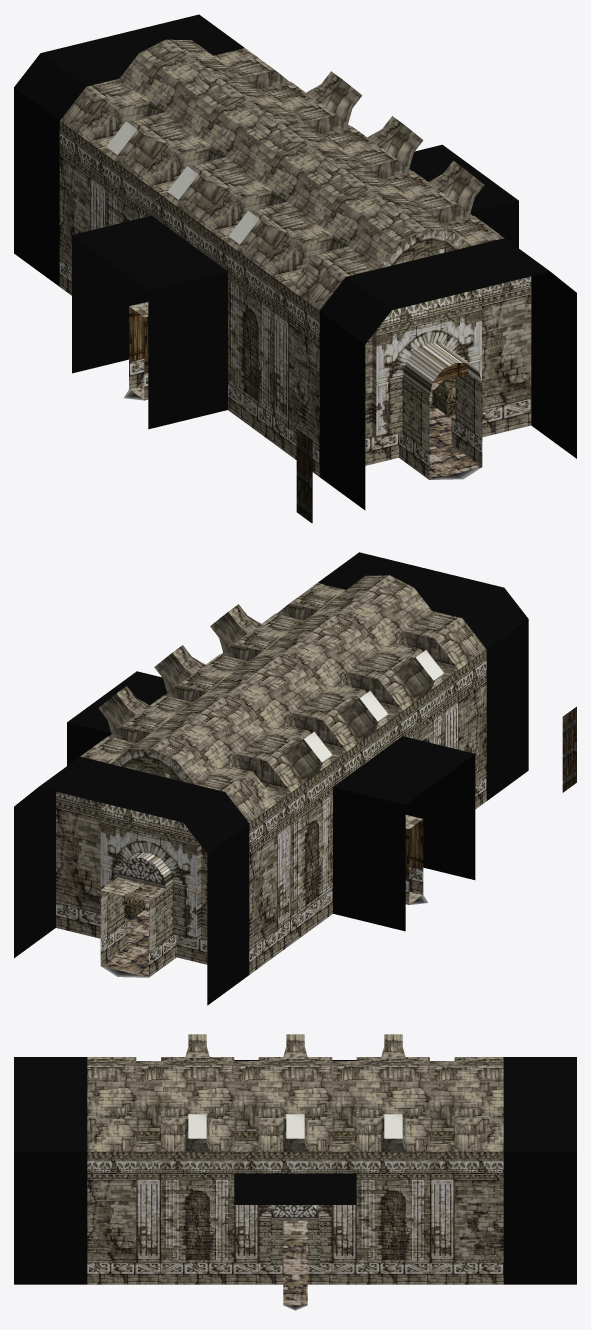
The model's file is MAP048.obj.
3 renders of one model, top to bottom at view 1: azimuth 30°, elevation 25°; view 2: azimuth 150°, elevation 25°; view 3: azimuth 270°, elevation 25°, orthographic. The views are drawn at different scales.
Parts seen in each view (by area): view 1: mesh_32, mesh_38, mesh_39, mesh_36, mesh_25, mesh_20, mesh_54, mesh_49, mesh_19, mesh_26, mesh_21, mesh_48 (+10 smaller); view 2: mesh_32, mesh_36, mesh_39, mesh_38, mesh_25, mesh_54, mesh_9, mesh_8, mesh_49, mesh_26, mesh_10, mesh_48 (+10 smaller); view 3: mesh_32, mesh_14, mesh_36, mesh_38, mesh_43, mesh_15, mesh_44, mesh_37, mesh_54, mesh_17, mesh_7, mesh_55 (+3 smaller).
Part boxes in pixels (left/top/right/bottom): mesh_32: left=60, top=39, right=503, bottom=310; mesh_38: left=319, top=238, right=576, bottom=510; mesh_39: left=72, top=215, right=227, bottom=429; mesh_36: left=14, top=14, right=244, bottom=286; mesh_25: left=59, top=121, right=319, bottom=476; mesh_20: left=376, top=303, right=482, bottom=438; mesh_54: left=108, top=71, right=484, bottom=265; mesh_49: left=59, top=149, right=319, bottom=449; mesh_19: left=365, top=287, right=531, bottom=438; mesh_26: left=90, top=171, right=288, bottom=371; mesh_21: left=365, top=276, right=531, bottom=465; mesh_48: left=90, top=226, right=288, bottom=426; mesh_32: left=80, top=575, right=486, bottom=822; mesh_36: left=14, top=756, right=249, bottom=1005; mesh_39: left=333, top=736, right=475, bottom=931; mesh_38: left=318, top=552, right=528, bottom=800; mesh_25: left=249, top=650, right=486, bottom=974; mesh_54: left=98, top=604, right=442, bottom=781; mesh_9: left=100, top=816, right=197, bottom=940; mesh_8: left=56, top=801, right=207, bottom=940; mesh_49: left=249, top=675, right=486, bottom=949; mesh_26: left=277, top=695, right=458, bottom=878; mesh_10: left=56, top=791, right=207, bottom=964; mesh_48: left=277, top=746, right=458, bottom=928; mesh_32: left=87, top=1057, right=503, bottom=1151; mesh_14: left=87, top=1151, right=503, bottom=1284; mesh_36: left=503, top=1057, right=576, bottom=1284; mesh_38: left=14, top=1057, right=87, bottom=1284; mesh_43: left=136, top=1218, right=454, bottom=1262; mesh_15: left=136, top=1174, right=454, bottom=1239; mesh_44: left=87, top=1174, right=503, bottom=1262; mesh_37: left=234, top=1174, right=356, bottom=1204; mesh_54: left=185, top=1034, right=405, bottom=1151; mesh_17: left=258, top=1205, right=332, bottom=1265; mesh_7: left=283, top=1239, right=307, bottom=1305; mesh_55: left=188, top=1114, right=402, bottom=1138.
Bounding box in the file's own units: 179 × 102 × 294.
Materials: 14 (14 with a texture image).
